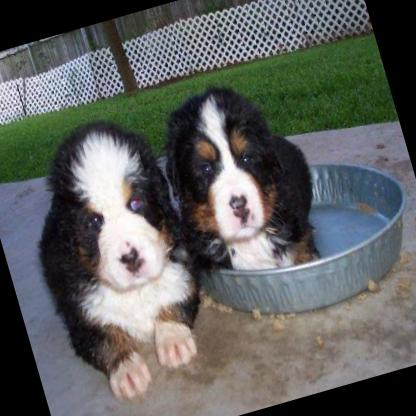Bernese_mountain_dog: (2, 100, 231, 414), (144, 64, 338, 304)
